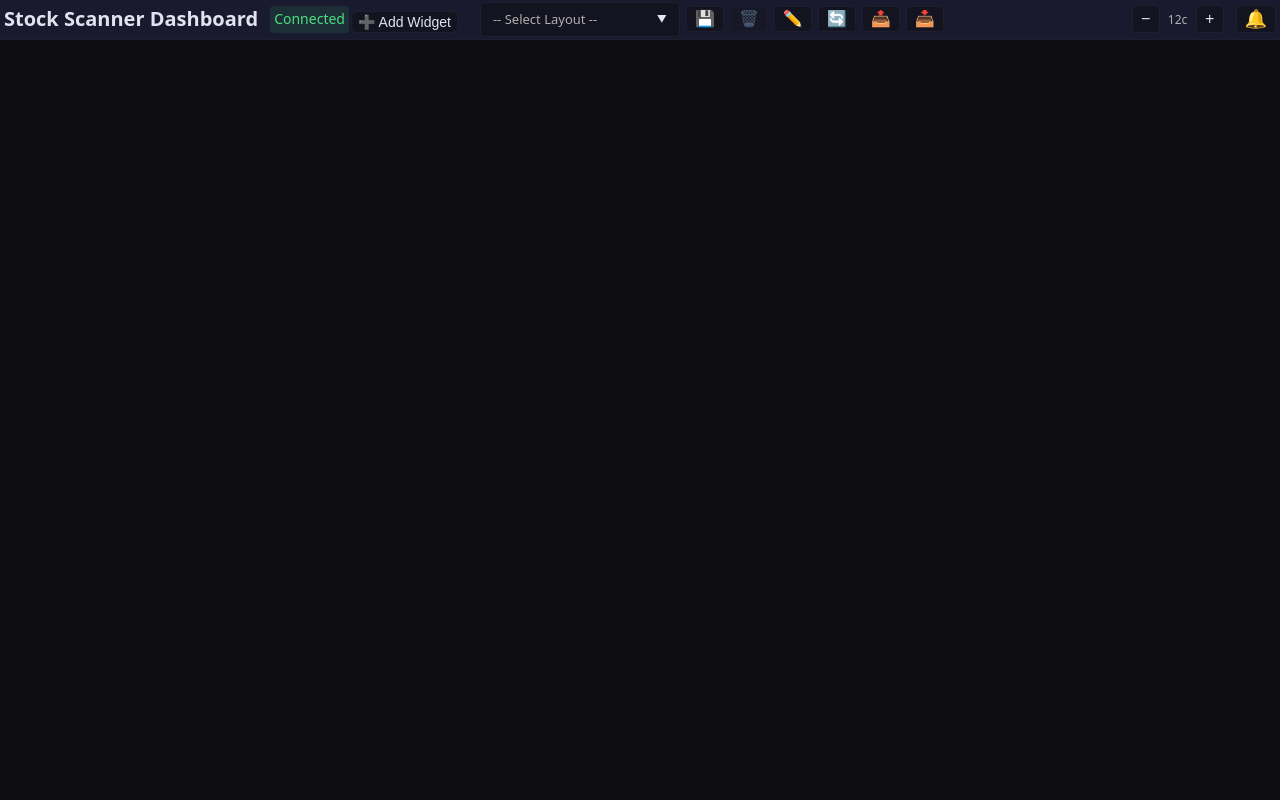
Test case: formatDate › with valid timestamp expect formatted string in preview metadata
# Act — open dropdown and click preview button (triggers showLayoutPreview internally)
Click the element with class "select-trigger". click: {"x": 580, "y": 19}
box: [480,2,680,37]
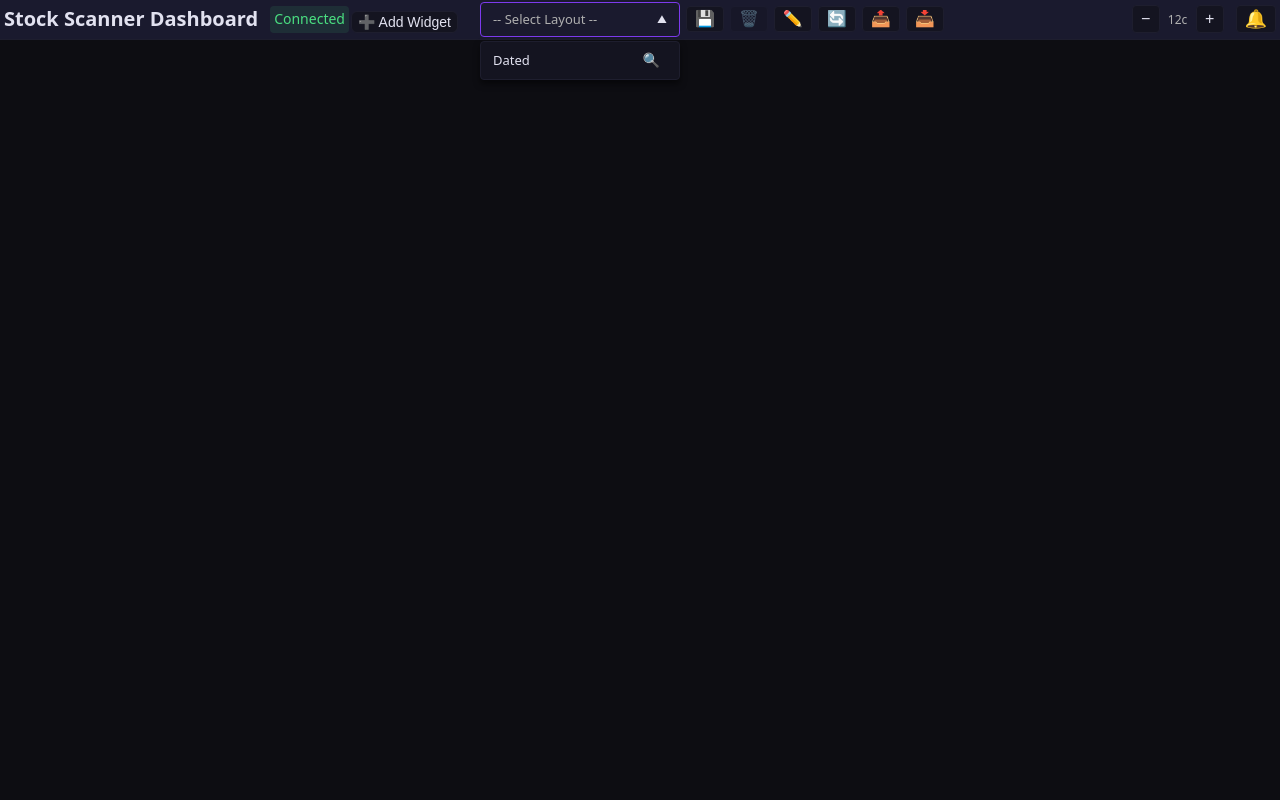
Click the button with class "option-preview-btn". click: {"x": 651, "y": 60}
box: [636,50,667,70]
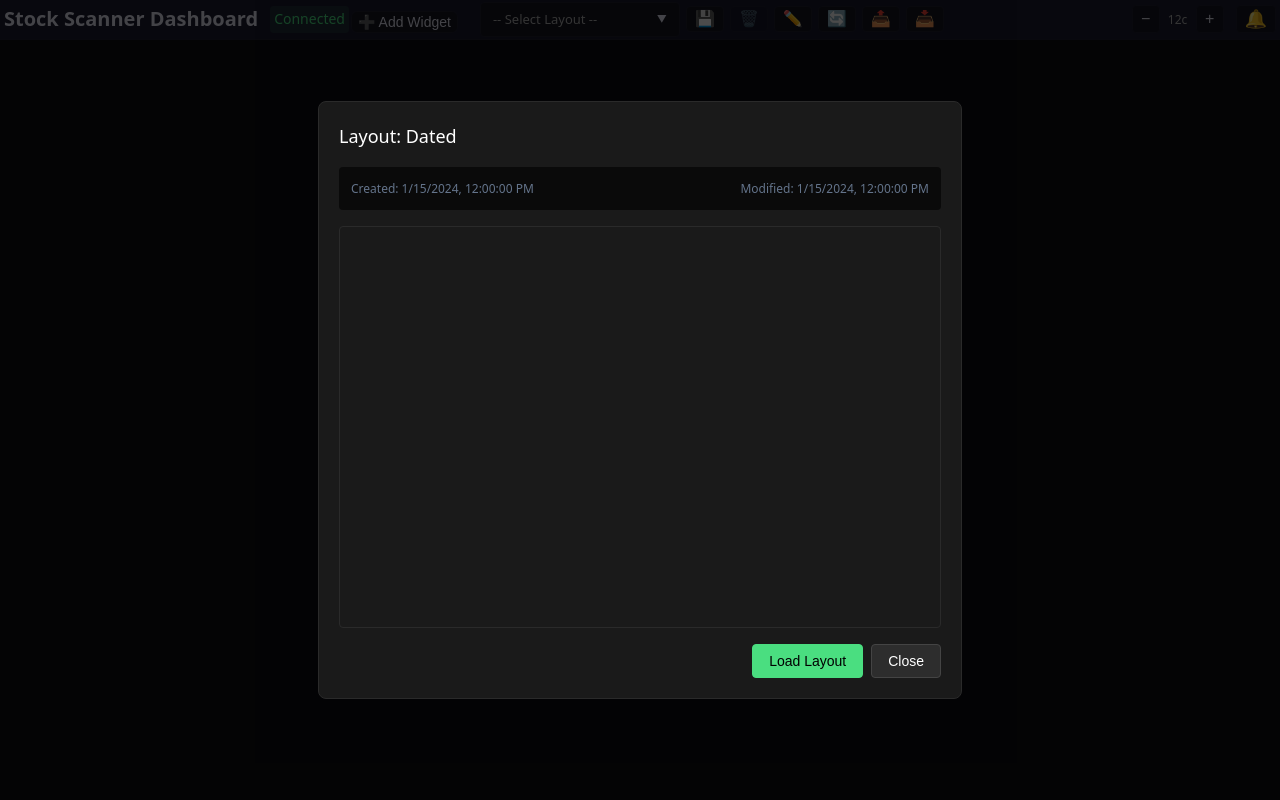
Expected: the element that starts with "Created: 1/15/2024, 12:00:00 PM" is shown, [339,167,941,210]
